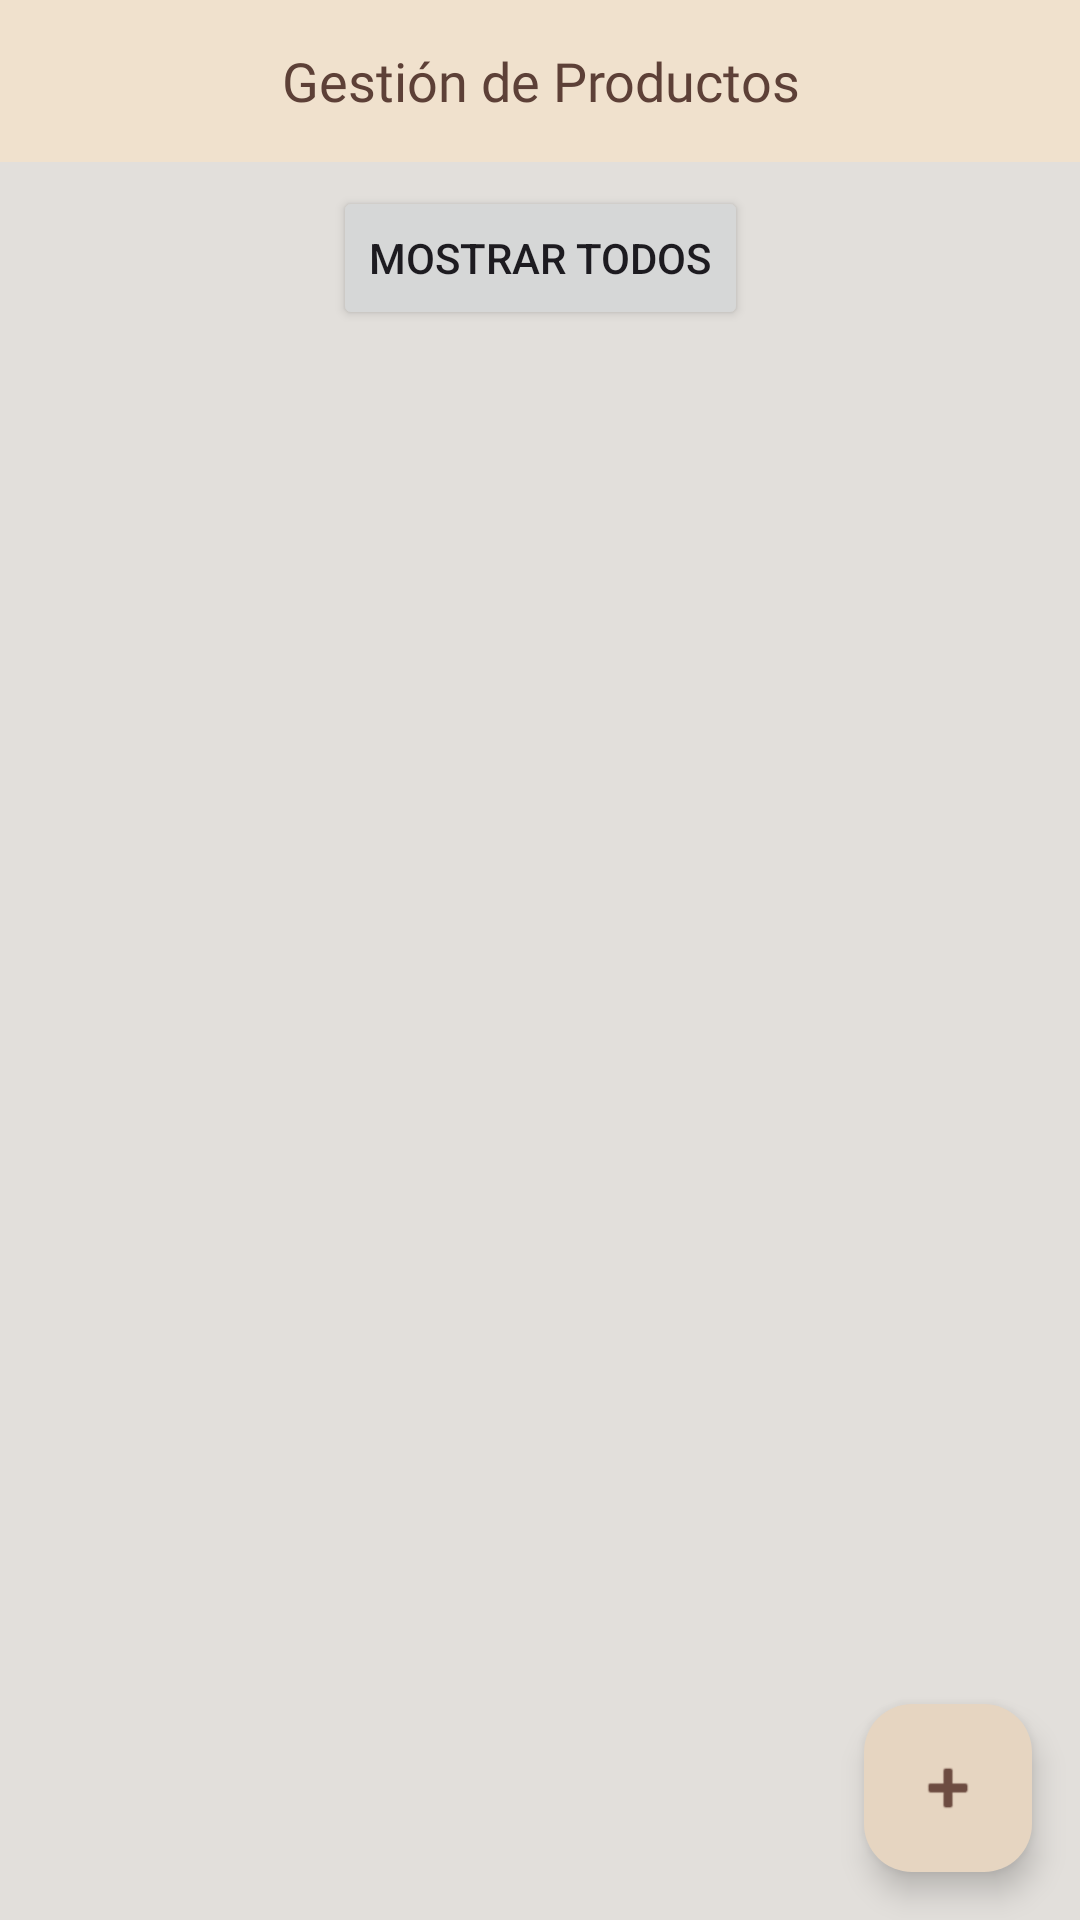

Icons on this 1080×1920 Android screen, each with the point to tap as [x,y]:
Agregar producto: [948,1788]
